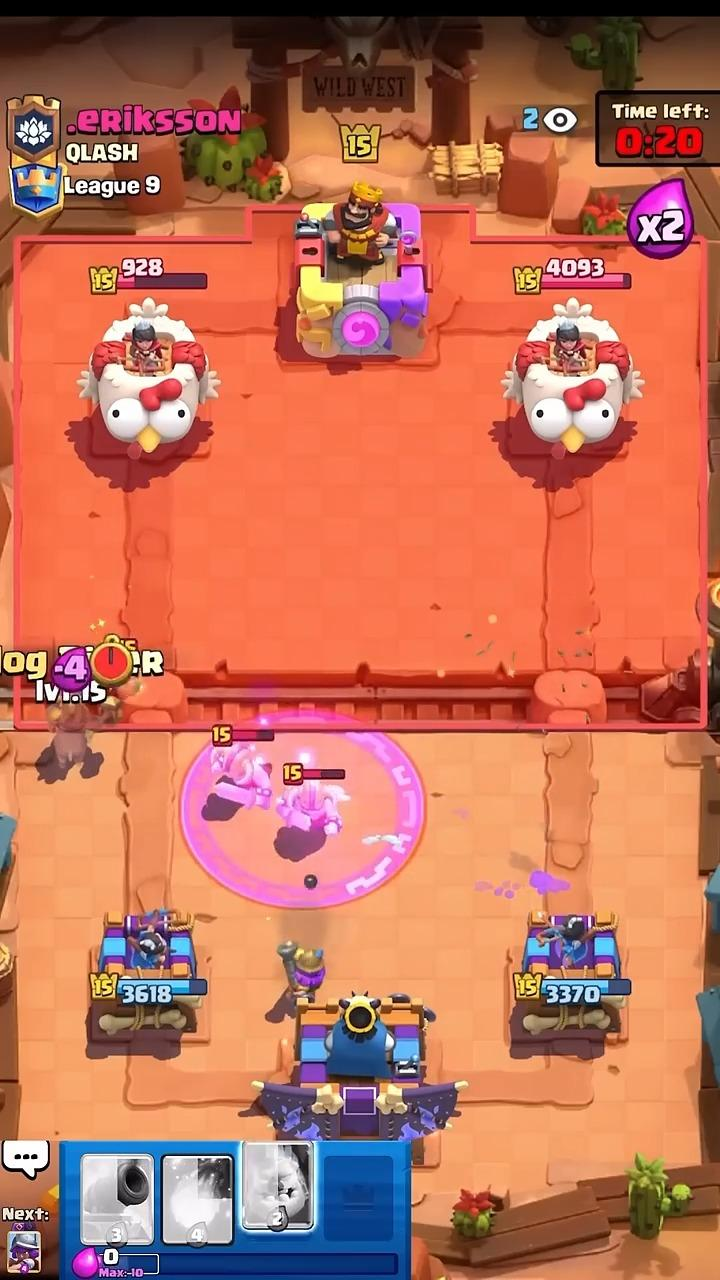elite barbarians: (277, 774, 348, 844), (208, 743, 270, 808)
musketeer: (278, 942, 324, 1000)
rage: (180, 712, 424, 910)
